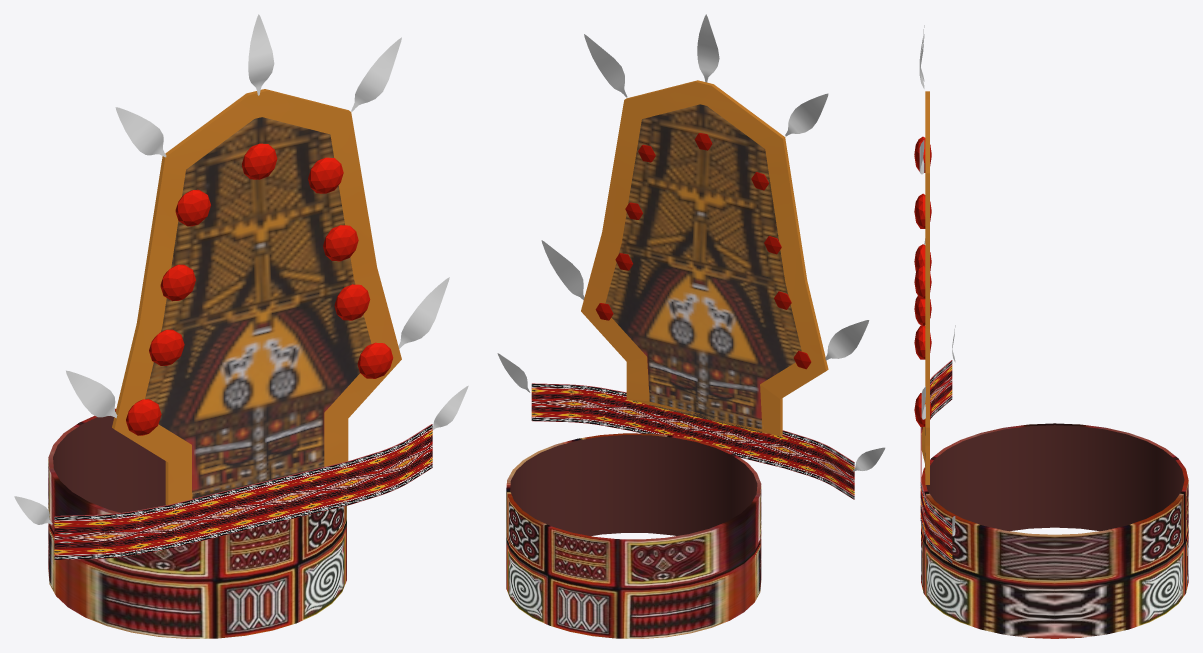
Rendered from toraja.glb.
The picture shows the model from 3 angles, left to right: view 1: azimuth 30°, elevation 25°; view 2: azimuth 150°, elevation 25°; view 3: azimuth 270°, elevation 25°; orthographic projection. The views are drawn at different scales.
Visible parts, largest first — view 1: Plane, Circle, Plane.001, Icosphere.004, Plane.003, Plane.002, Icosphere; view 2: Plane, Circle, Plane.001, Plane.003, Icosphere.004, Plane.002; view 3: Circle, Plane.001, Plane, Icosphere.004, Plane.003.
Part boxes in pixels (x1,y1,x2,y2): Plane: (112, 89, 401, 505); Circle: (48, 408, 346, 638); Plane.001: (54, 424, 432, 560); Icosphere.004: (126, 157, 393, 435); Plane.003: (14, 37, 468, 524); Plane.002: (248, 14, 274, 95); Icosphere: (242, 143, 277, 179); Plane: (581, 80, 828, 436); Circle: (506, 433, 761, 638); Plane.001: (531, 383, 854, 499); Plane.003: (497, 34, 885, 471); Icosphere.004: (595, 144, 811, 369); Plane.002: (697, 14, 719, 82); Circle: (921, 423, 1188, 638); Plane.001: (920, 360, 952, 563); Plane: (921, 91, 929, 484); Icosphere.004: (914, 136, 931, 426); Plane.003: (919, 25, 955, 536).
Size of the model in its own units: 3.12 by 4.06 by 1.82.
Materials: 6 (3 with a texture image).
